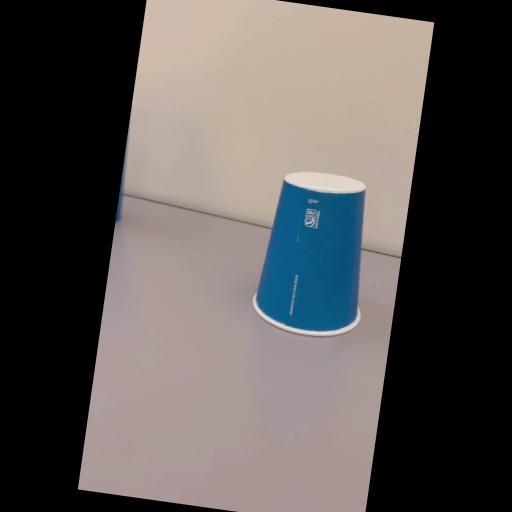lp_paper_cup: (252, 164, 382, 344)
